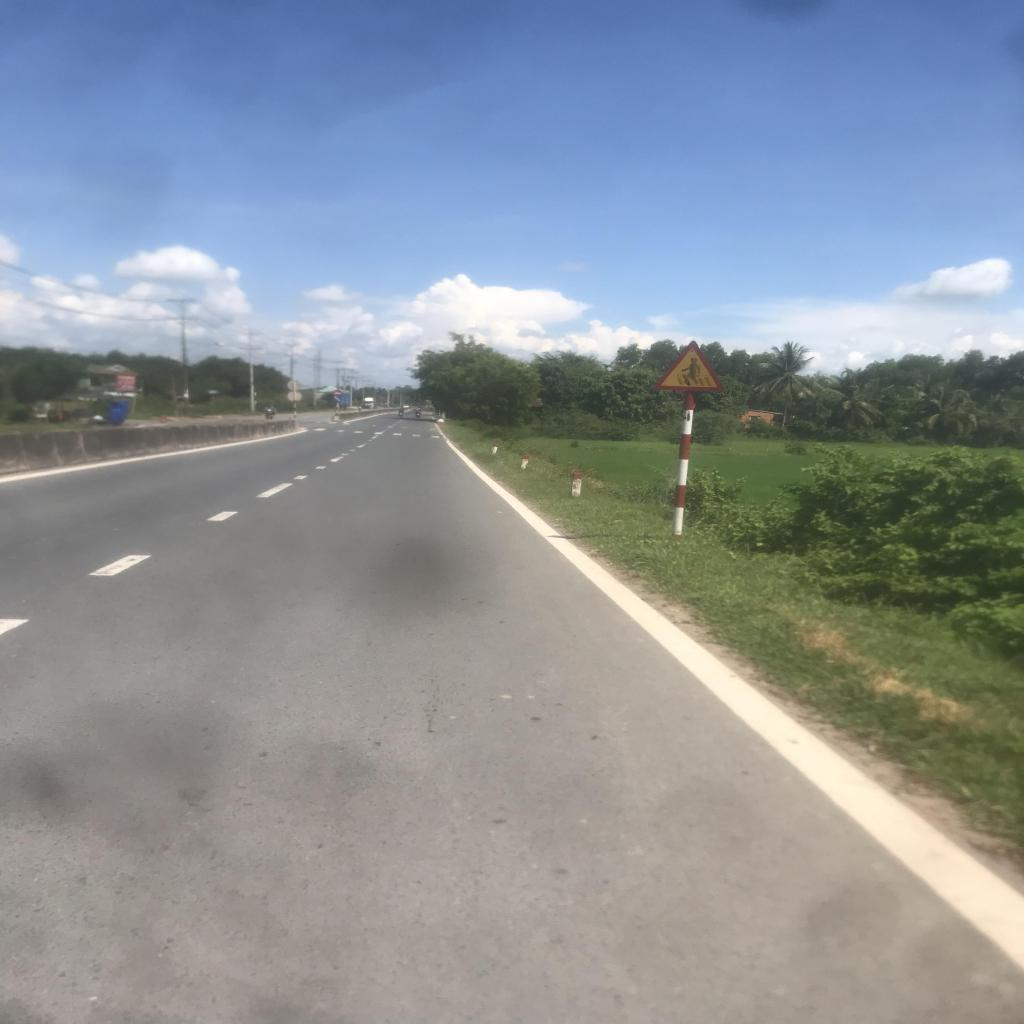cam_xe_di_nguoc_chieu: (332, 390, 342, 396)
chu_y_nguoi_di_bo_cat_ngang: (652, 339, 727, 391)
huong_phai_di_vuot_chuong_ngai_vat_phai: (332, 396, 342, 402)
